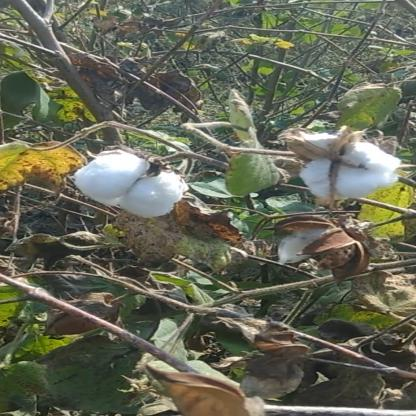cotton_ready: (68, 140, 213, 223), (260, 125, 400, 202)
